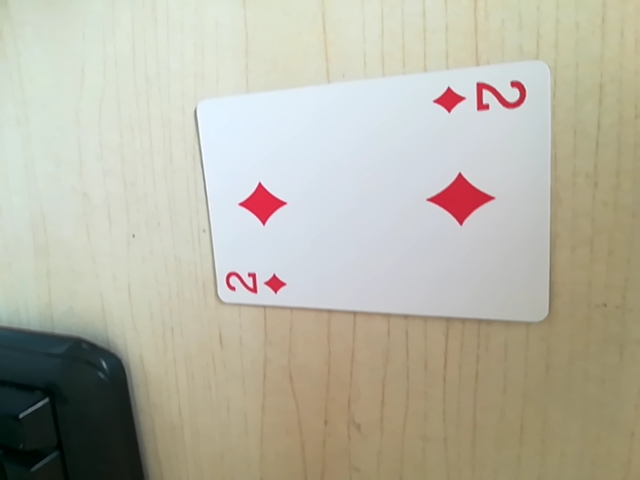fk 2: (431, 73, 529, 124), (222, 263, 291, 301)
